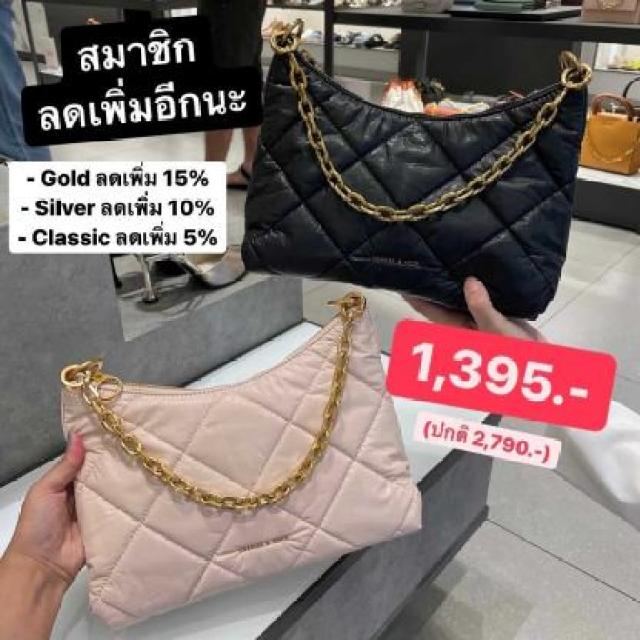Bag: (20, 274, 451, 626), (223, 21, 585, 342)
